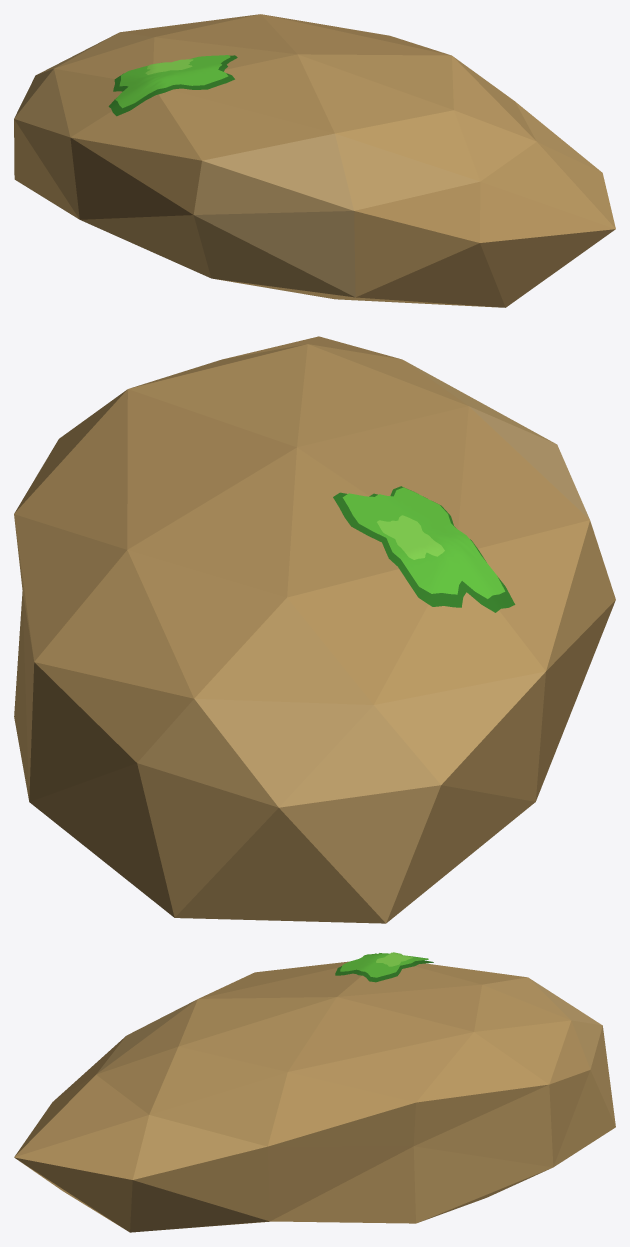
The model's file is rock_4_rim.glb.
3 views of the same model, one above another, from view 1: azimuth 30°, elevation 25°; view 2: azimuth 150°, elevation 25°; view 3: azimuth 270°, elevation 25° (orthographic). The views are drawn at different scales.
Visible parts, largest first — view 1: rock_4_rim; view 2: rock_4_rim; view 3: rock_4_rim.
Boxes of the visible parts, x1,y1,x2,y2 form: rock_4_rim: [14, 14, 615, 307]; rock_4_rim: [14, 336, 615, 923]; rock_4_rim: [14, 952, 615, 1232].
Bounding box in the file's own units: 1.62 × 0.7624 × 2.23.
